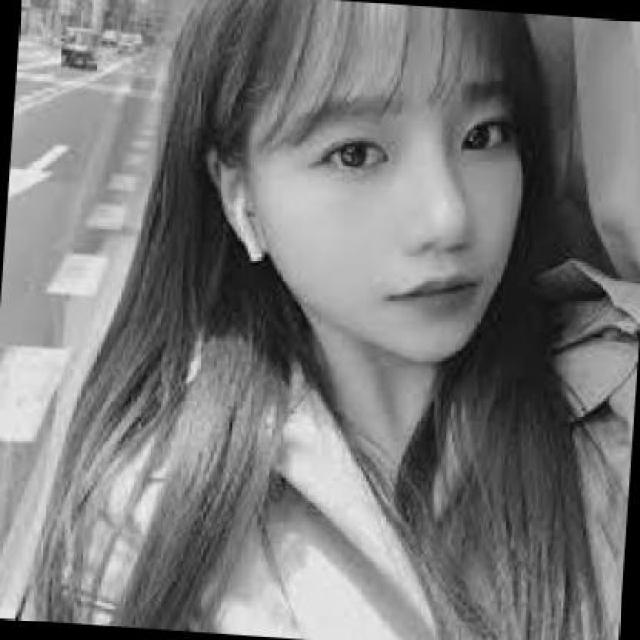earphone: (171, 171, 273, 282)
